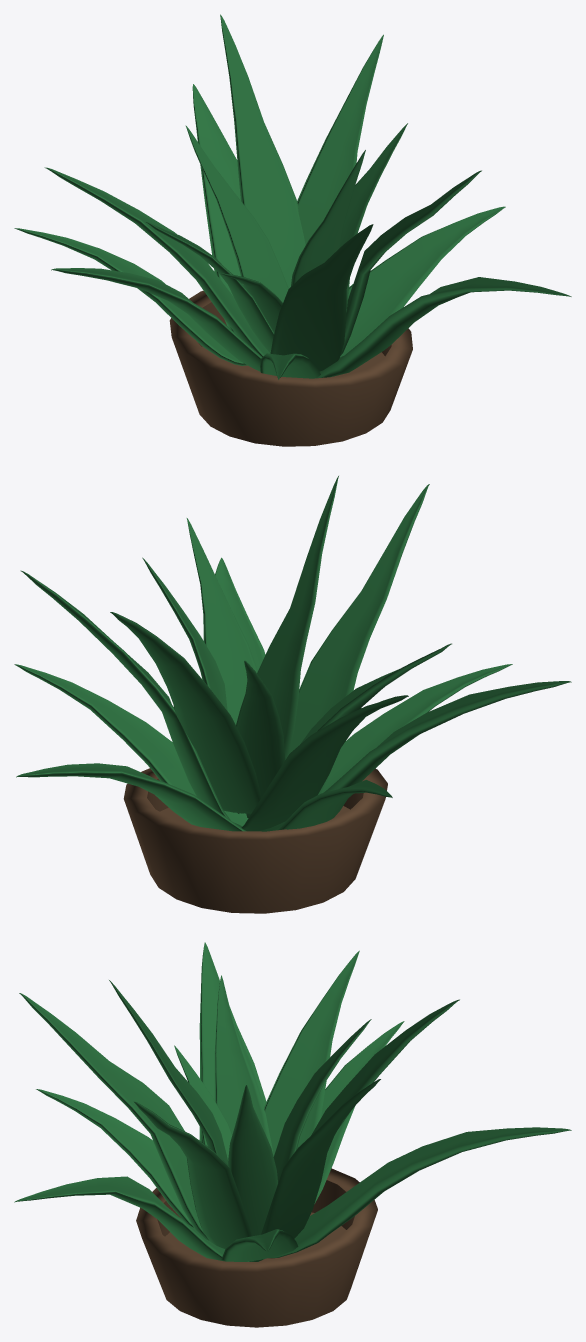
The model's file is Aloevera.fbx.
The picture shows the model from 3 angles, top to bottom: view 1: azimuth 30°, elevation 25°; view 2: azimuth 150°, elevation 25°; view 3: azimuth 270°, elevation 25°; orthographic projection. The views are drawn at different scales.
Visible parts, largest first — view 1: Aloevera; view 2: Aloevera; view 3: Aloevera.
Part boxes in pixels (x1,y1,x2,y2): Aloevera: (14, 14, 571, 446); Aloevera: (14, 476, 571, 913); Aloevera: (14, 942, 571, 1327).
Bounding box in the file's own units: 10.8 × 6.63 × 10.95.
